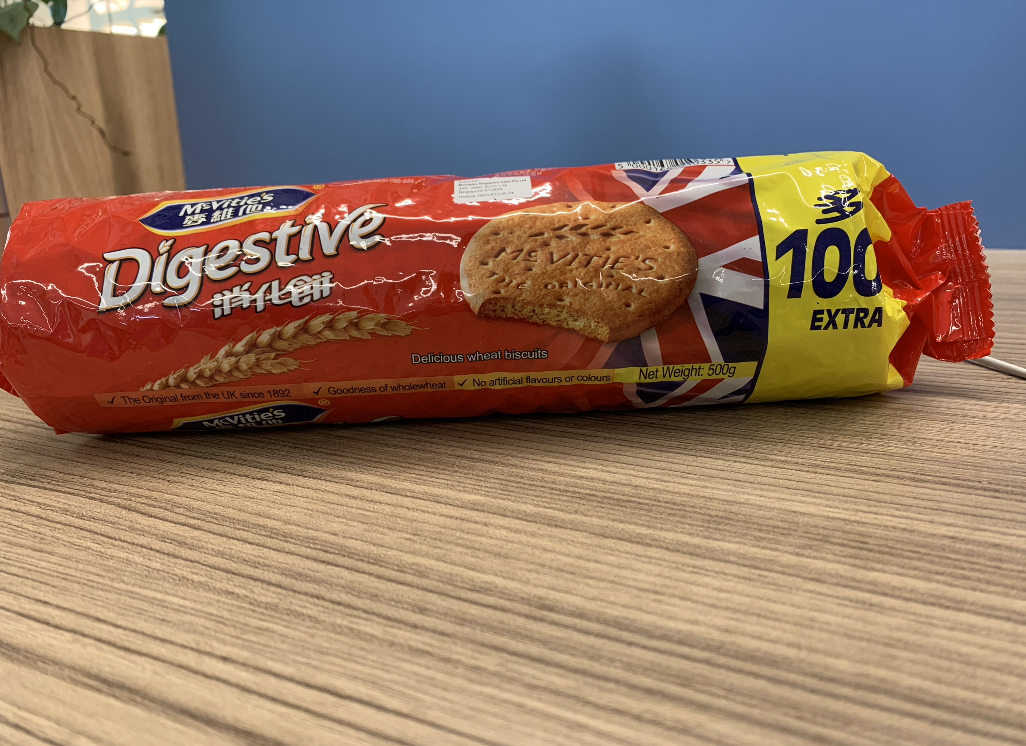cookies_550g: (77, 197, 895, 378)
